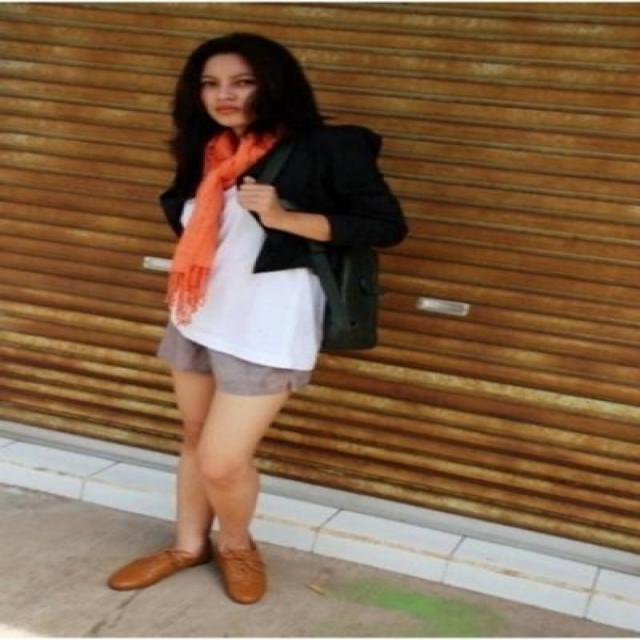jacket: (235, 120, 408, 356)
shirt: (178, 196, 323, 369)
shoe: (107, 536, 266, 604)
shorts: (146, 321, 315, 396)
